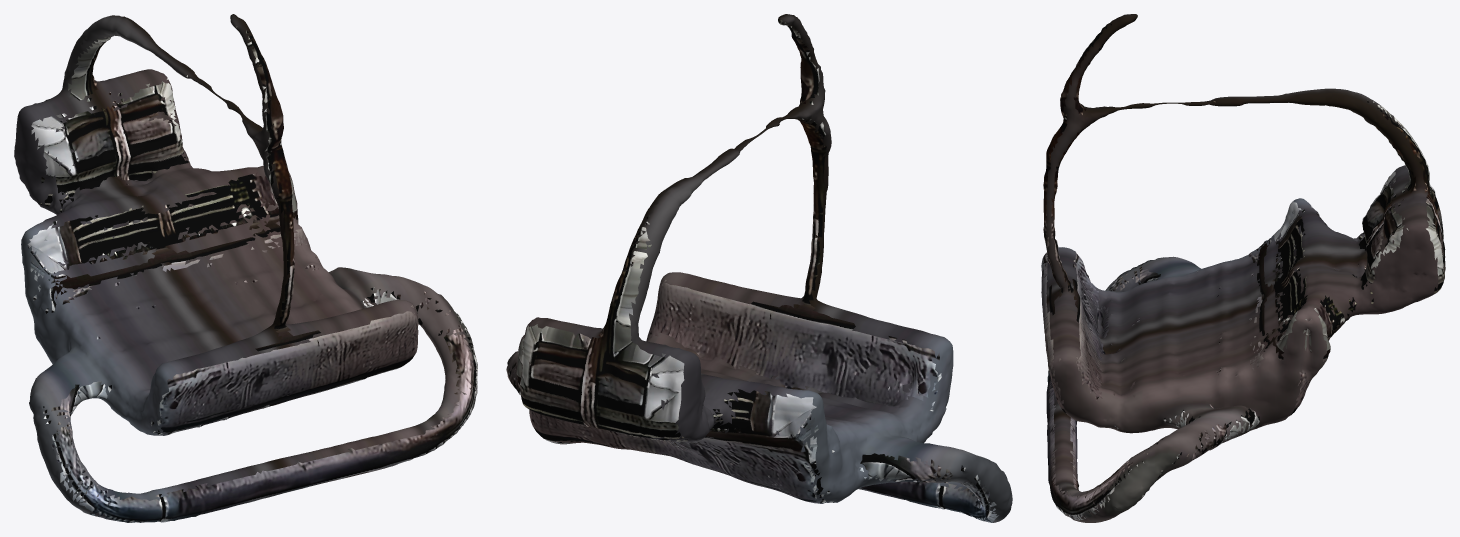
File: kfl-2143.glb
3 views of the same model, side by side, from view 1: azimuth 30°, elevation 25°; view 2: azimuth 150°, elevation 25°; view 3: azimuth 270°, elevation 25° (orthographic). The views are drawn at different scales.
Parts seen in each view (by area): view 1: kfl-2143; view 2: kfl-2143; view 3: kfl-2143.
Boxes of the visible parts, left/top/right/bottom form: kfl-2143: left=14, top=14, right=477, bottom=522; kfl-2143: left=506, top=14, right=1012, bottom=522; kfl-2143: left=1041, top=14, right=1445, bottom=522.
Bounding box in the file's own units: 0.995 × 0.992 × 0.8511.
Materials: 4 (4 with a texture image).
